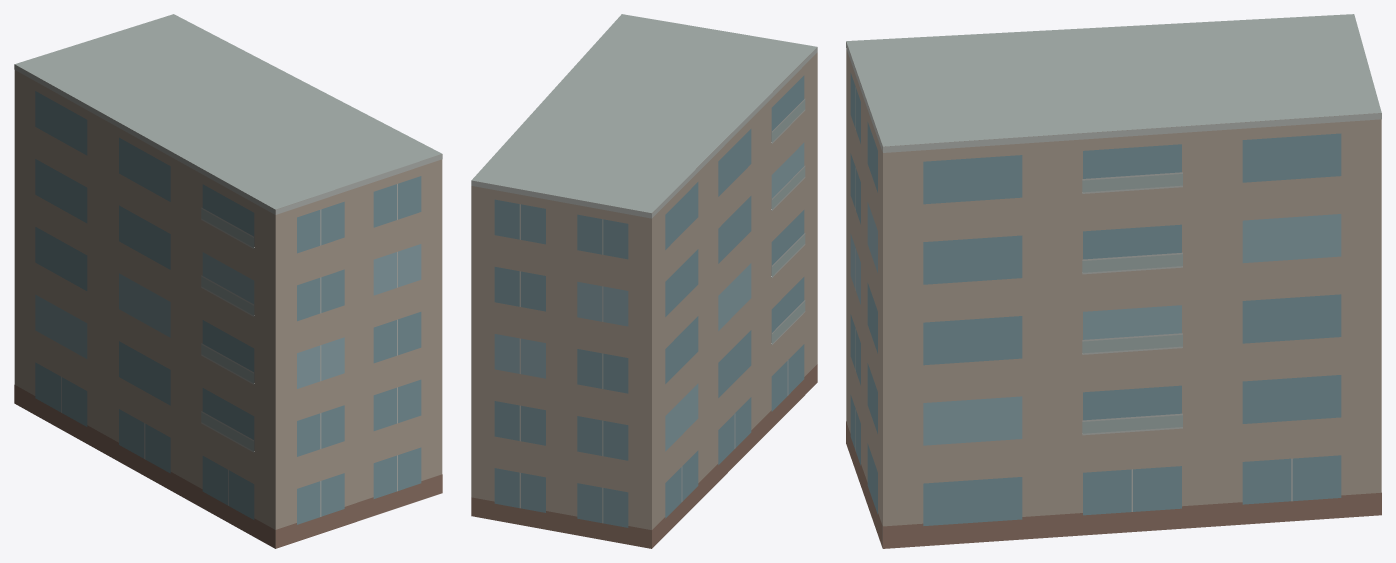
File: survey-upis-32575373.glb
3 views of the same model, side by side, from view 1: azimuth 30°, elevation 25°; view 2: azimuth 150°, elevation 25°; view 3: azimuth 270°, elevation 25° (orthographic). The views are drawn at different scales.
Parts seen in each view (by area): view 1: survey-upis-32575373.tmp; view 2: survey-upis-32575373.tmp; view 3: survey-upis-32575373.tmp.
Part boxes in pixels (left/top/right/bottom): survey-upis-32575373.tmp: left=14, top=14, right=442, bottom=548; survey-upis-32575373.tmp: left=471, top=14, right=817, bottom=548; survey-upis-32575373.tmp: left=846, top=14, right=1381, bottom=548.
Bounding box in the file's own units: 10.75 × 15.2 × 18.35.
